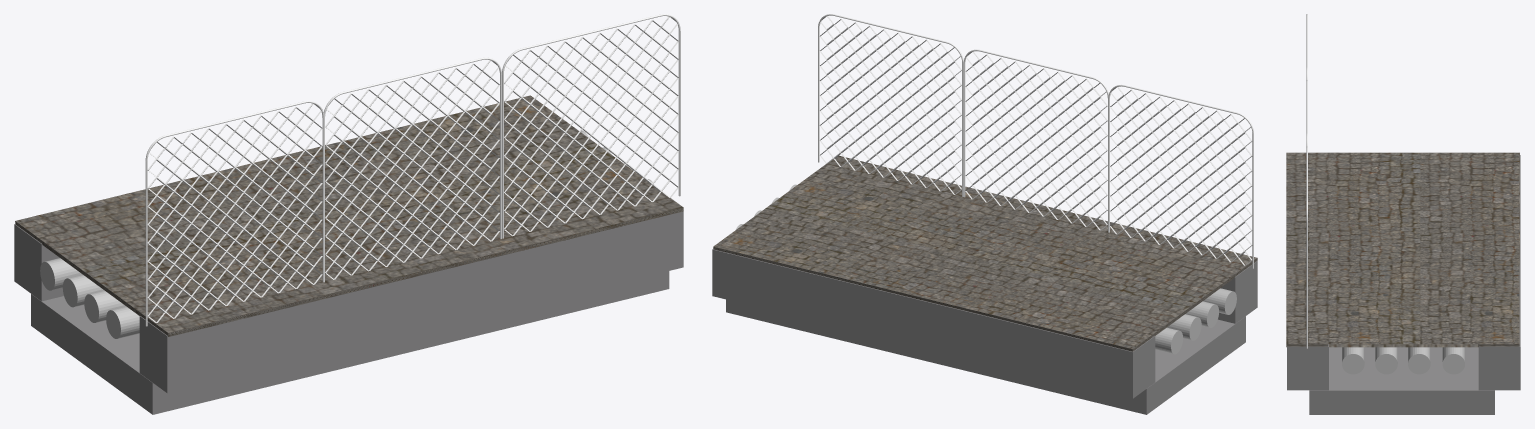
The model's file is paul_pit.fbx.
The picture shows the model from 3 angles, left to right: view 1: azimuth 30°, elevation 25°; view 2: azimuth 150°, elevation 25°; view 3: azimuth 270°, elevation 25°; orthographic projection. The views are drawn at different scales.
Parts seen in each view (by area): view 1: Куб.001, BaseCube, Cube1, Cube2, Cube3, Grid2, Grid3, Grid1, Цилиндр.003; view 2: Куб.001, BaseCube, Cube1, Cube2, Cube3, Grid2, Grid3, Grid1, Цилиндр.003; view 3: BaseCube, Куб.001, Cube3, Cube1, Cube2, Цилиндр.003, Grid3.
Part boxes in pixels (left/top/right/bottom): Куб.001: left=14, top=211, right=683, bottom=414; BaseCube: left=15, top=95, right=683, bottom=336; Cube1: left=42, top=199, right=313, bottom=315; Cube2: left=216, top=157, right=485, bottom=270; Cube3: left=389, top=115, right=654, bottom=228; Grid2: left=145, top=101, right=324, bottom=326; Grid3: left=502, top=14, right=680, bottom=238; Grid1: left=323, top=57, right=501, bottom=282; Цилиндр.003: left=40, top=130, right=652, bottom=338; Куб.001: left=712, top=249, right=1257, bottom=414; BaseCube: left=713, top=155, right=1257, bottom=351; Cube1: left=1015, top=240, right=1235, bottom=335; Cube2: left=874, top=205, right=1093, bottom=298; Cube3: left=736, top=172, right=953, bottom=263; Grid2: left=1108, top=85, right=1253, bottom=268; Grid3: left=818, top=14, right=963, bottom=196; Grid1: left=963, top=49, right=1108, bottom=232; Цилиндр.003: left=736, top=184, right=1236, bottom=354; BaseCube: left=1286, top=152, right=1519, bottom=347; Куб.001: left=1287, top=155, right=1520, bottom=414; Cube3: left=1328, top=281, right=1477, bottom=347; Cube1: left=1328, top=152, right=1477, bottom=216; Cube2: left=1328, top=216, right=1477, bottom=281; Цилиндр.003: left=1342, top=347, right=1464, bottom=374; Grid3: left=1306, top=146, right=1307, bottom=348.
Bounding box in the file's own units: 352 × 174 × 174.
